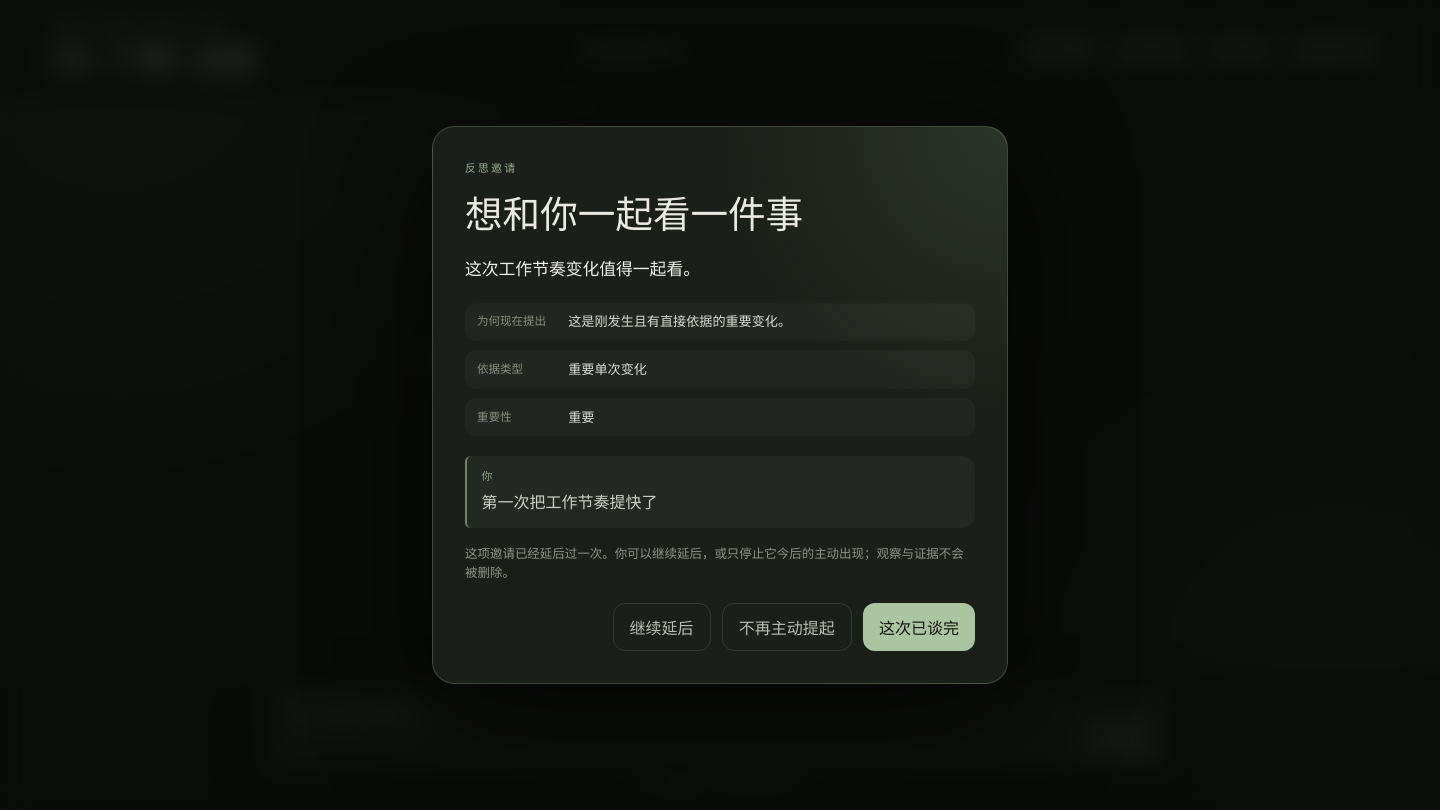
Scenario: S26 deferrable reflection invitation ceremony › shows the one-time mute choice after a repeated deferral and preserves explicit semantics
The width and height of the screenshot is (1440, 810).
What coordinates should you click on to do the following:
click the button "不再主动提起"
I would click on:
 (787, 627)
Its box is [722,603,852,651].
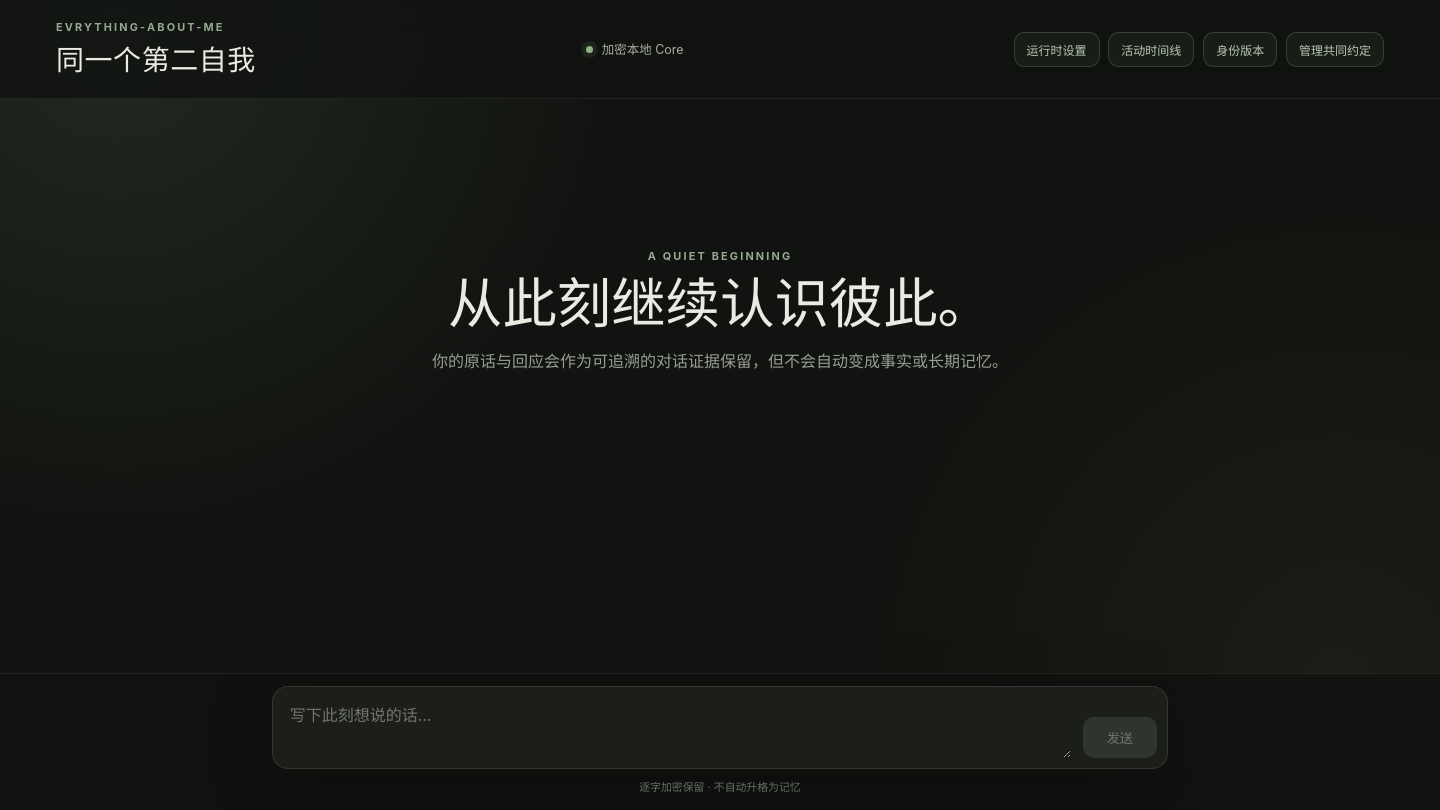
Check: the text "想和你一起看一件事" is gone
